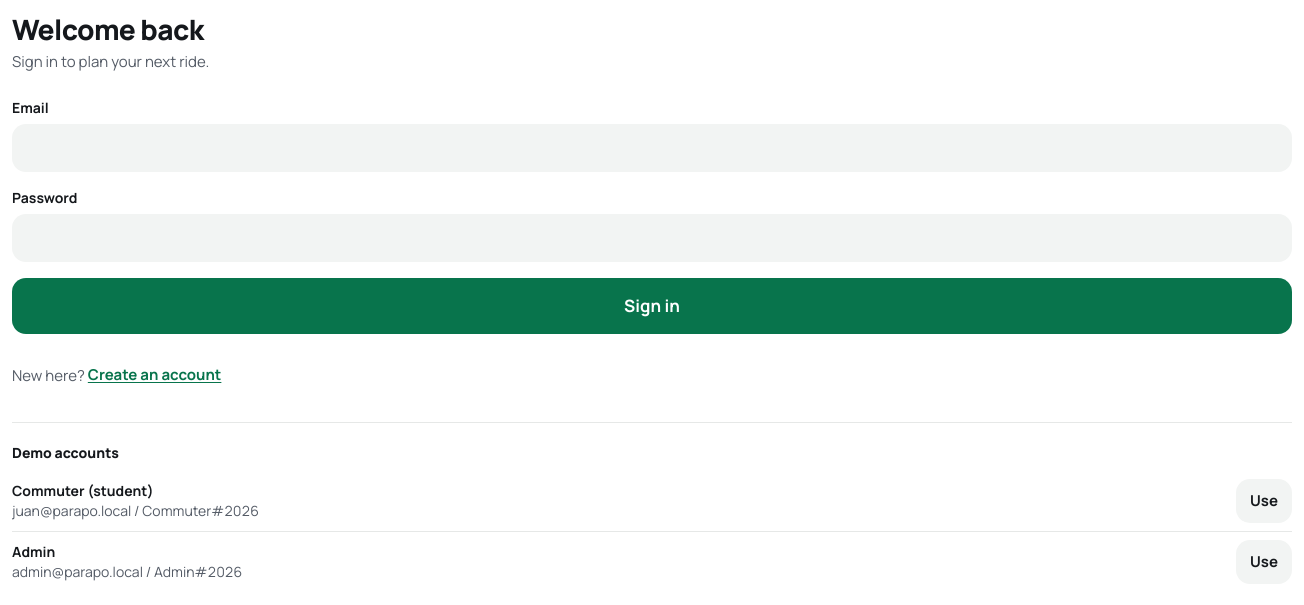
Test: LoginForm › fills the demo credentials from the hint
Click the button with aria-label "fill in admin credentials". click: [1264, 562]
box: [1236,540,1292,584]
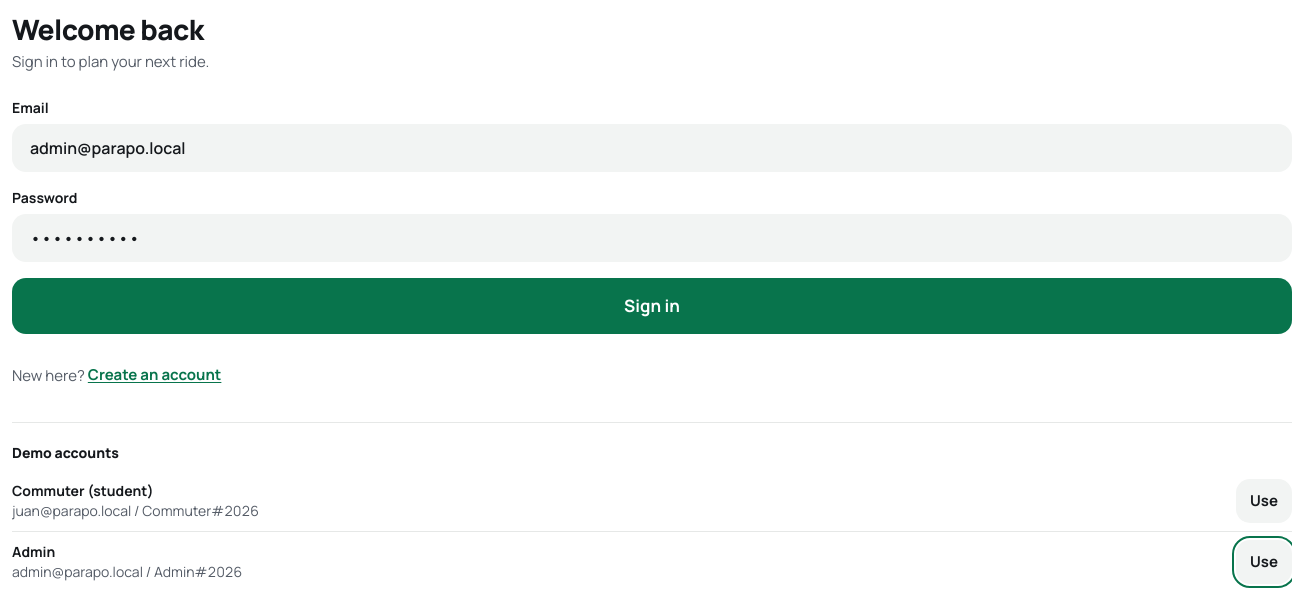
Check: the field labelled "Email" holds "admin@parapo.local", box [12,124,1292,172]
Check: the password field labelled "Password" holds "Admin#2026", box [12,214,1292,262]
